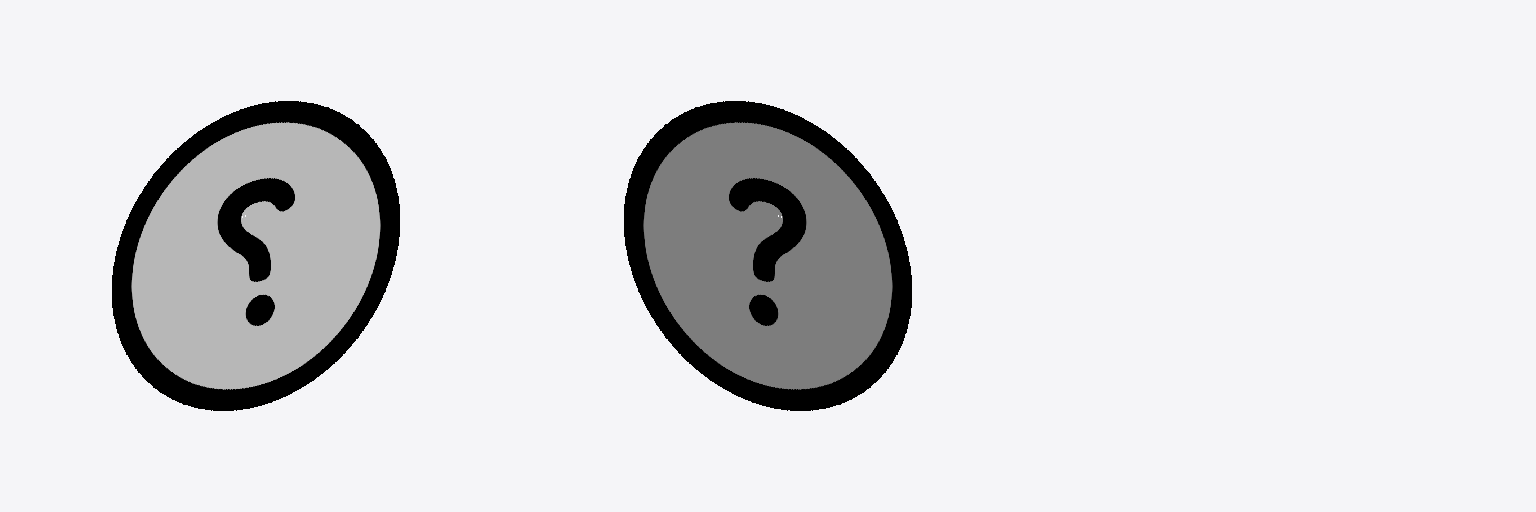
The picture shows the model from 3 angles: view 1: azimuth 30°, elevation 25°; view 2: azimuth 150°, elevation 25°; view 3: azimuth 270°, elevation 25°; orthographic projection.
Visible parts, largest first — view 1: Plane; view 2: Plane; view 3: none.
Part boxes in pixels (x1,y1,x2,y2): Plane: (112,101,399,410); Plane: (624,101,911,410).
Size of the model in its own units: 2 by 2 by 0.
Materials: 1 (1 with a texture image).